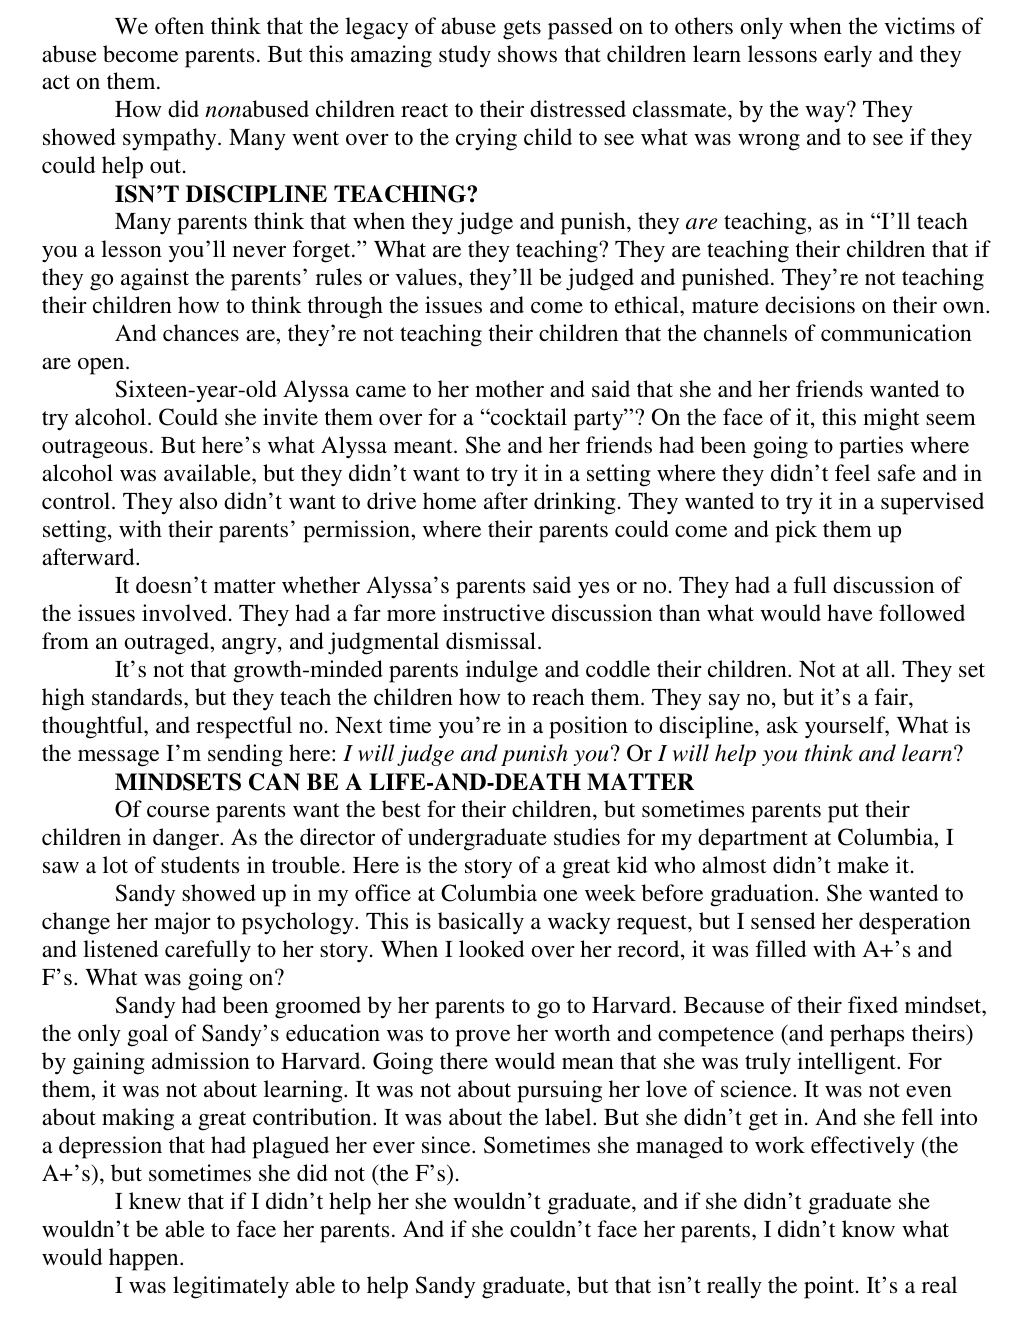latin: (34, 995, 991, 1302), (35, 794, 975, 993), (30, 376, 1004, 568), (38, 14, 986, 185), (39, 207, 995, 376), (29, 652, 986, 768), (39, 568, 975, 652), (112, 769, 697, 793), (111, 183, 483, 200)
